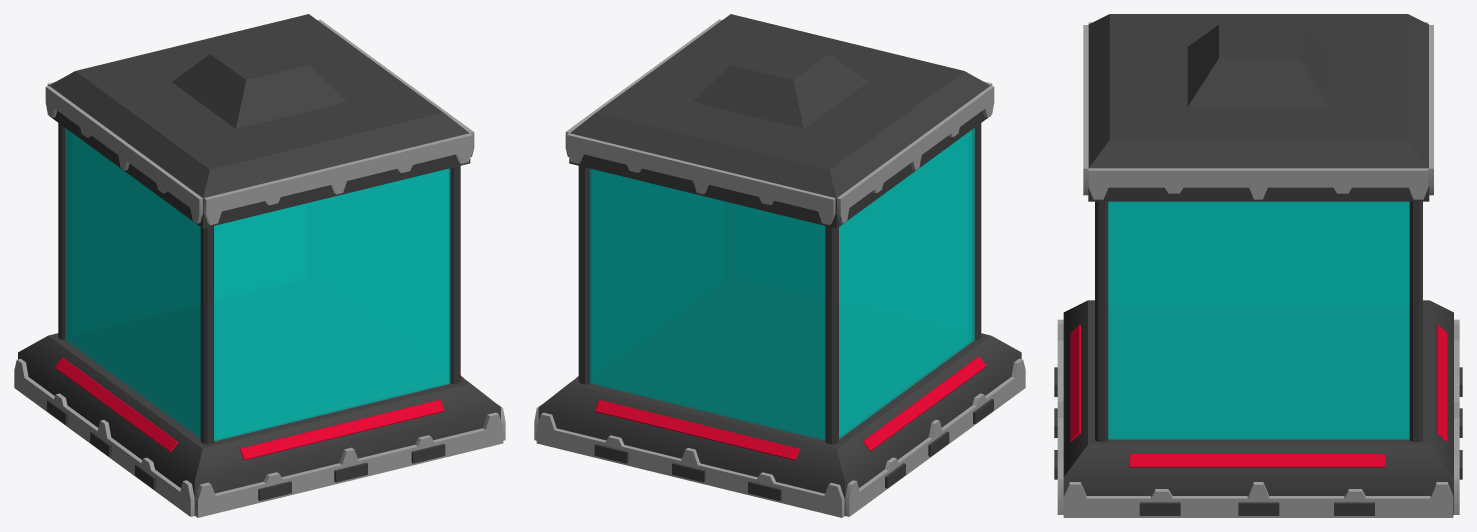
File: c_prison_couleur_anim.fbx
3 views of the same model, side by side, from view 1: azimuth 30°, elevation 25°; view 2: azimuth 150°, elevation 25°; view 3: azimuth 270°, elevation 25° (orthographic). The views are drawn at different scales.
Visible parts, largest first — view 1: polySurface4, pCube3, polySurface3, pCube1, pCube19, pCube2, pCube8, pCube4, pCube27, pCube5, pCube7, pCube28; view 2: polySurface4, pCube3, polySurface3, pCube1, pCube19, pCube10, pCube8, pCube7, pCube6, pCube25, pCube4, pCube28; view 3: polySurface3, pCube3, pCube1, pCube19, pCube9, pCube26, pCube5, pCube6, pCube2, pCube25, pCube27, pCube10 (+3 smaller).
Part boxes in pixels (box(x1,y1,x2,y2)): polySurface4: box(214, 168, 450, 441); pCube3: box(49, 14, 470, 228); polySurface3: box(65, 128, 200, 438); pCube1: box(18, 333, 500, 515); pCube19: box(45, 19, 474, 225); pCube2: box(195, 412, 503, 517); pCube8: box(14, 358, 194, 516); pCube4: box(200, 226, 213, 444); pCube27: box(240, 400, 444, 460); pCube5: box(449, 166, 460, 384); pCube7: box(58, 123, 67, 339); pCube28: box(55, 357, 178, 452); polySurface4: box(590, 168, 825, 440); pCube3: box(569, 14, 990, 228); polySurface3: box(839, 128, 974, 439); pCube1: box(538, 333, 1021, 515); pCube19: box(565, 19, 994, 224); pCube10: box(536, 412, 844, 517); pCube8: box(845, 358, 1025, 516); pCube7: box(825, 226, 838, 444); pCube6: box(578, 166, 591, 384); pCube25: box(595, 400, 799, 460); pCube4: box(972, 123, 981, 340); pCube28: box(863, 356, 986, 451); polySurface3: box(1108, 201, 1409, 439); pCube3: box(1088, 14, 1429, 201); pCube1: box(1063, 300, 1453, 515); pCube19: box(1083, 22, 1433, 199); pCube9: box(1063, 482, 1453, 517); pCube26: box(1129, 454, 1385, 467); pCube5: box(1095, 201, 1108, 441); pCube6: box(1409, 201, 1422, 441); pCube2: box(1057, 319, 1063, 514); pCube25: box(1436, 324, 1447, 441); pCube27: box(1070, 324, 1080, 441); pCube10: box(1454, 319, 1459, 514).
Size of the model in its own units: 0.19 by 0.2012 by 0.19.
